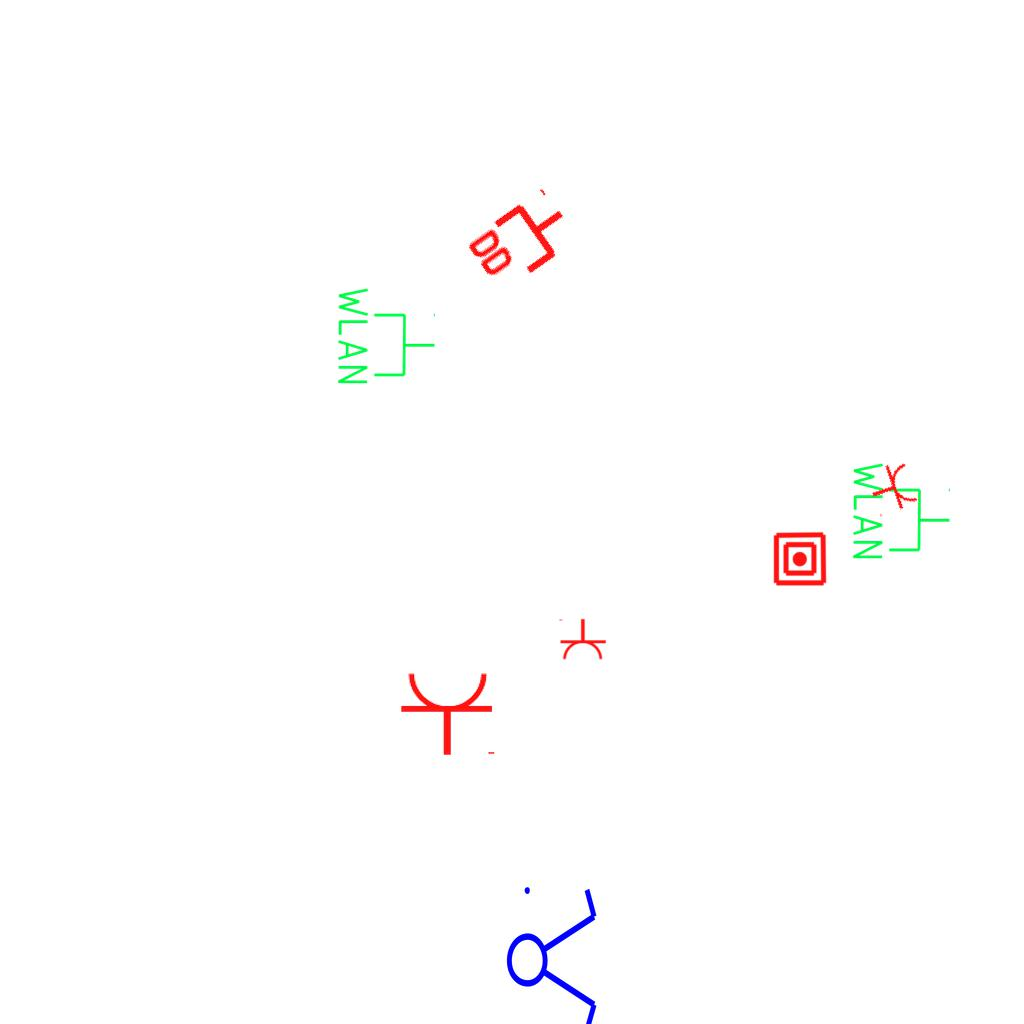Datenanschluss_zweifach: (460, 184, 585, 301)
NAM-Nichtautomatischer_Melder: (772, 531, 828, 587)
Schukosteckdose_einfach: (399, 670, 499, 757), (864, 458, 921, 520), (557, 618, 607, 661)
Serienschalter: (505, 875, 601, 1024)
WLAN: (334, 283, 438, 388), (849, 458, 953, 563)
